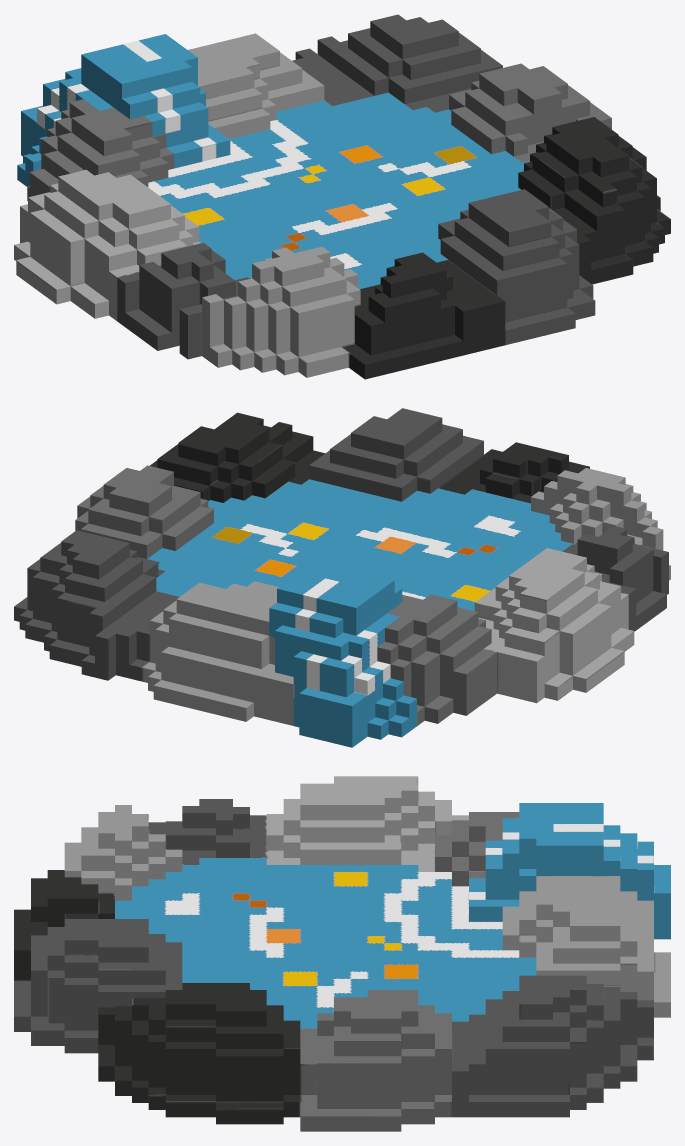
Rendered from onsen_bontan.glb.
3 views of the same model, one above another, from view 1: azimuth 30°, elevation 25°; view 2: azimuth 150°, elevation 25°; view 3: azimuth 270°, elevation 25° (orthographic). The views are drawn at different scales.
Visible parts, largest first — view 1: onsen_bontan-0, onsen_bontan-1; view 2: onsen_bontan-0, onsen_bontan-1; view 3: onsen_bontan-0, onsen_bontan-1.
Boxes of the visible parts, <box> form: onsen_bontan-0: <box>14,14,670,379</box>; onsen_bontan-1: <box>17,34,529,289</box>; onsen_bontan-0: <box>14,408,670,725</box>; onsen_bontan-1: <box>147,479,573,747</box>; onsen_bontan-0: <box>14,776,670,1131</box>; onsen_bontan-1: <box>115,803,670,1028</box>.
Size of the model in its own units: 0.8 by 0.16 by 0.78.
Materials: 2 (2 with a texture image).
